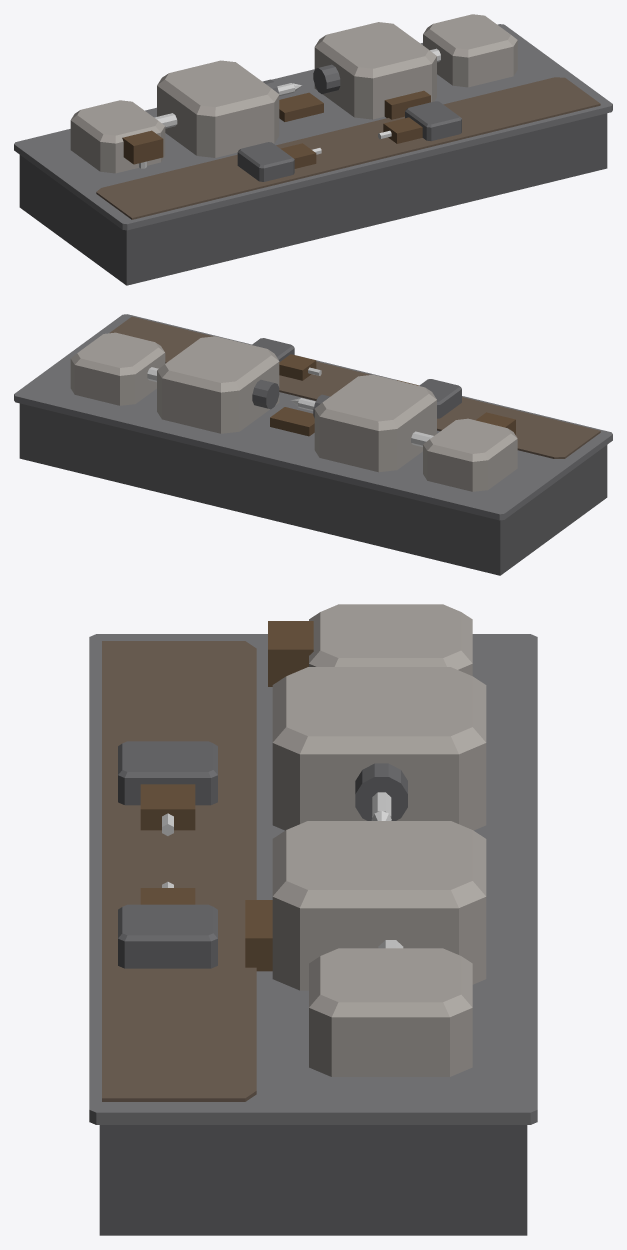
The model's file is fabrication_bench.obj.
3 renders of one model, top to bottom at view 1: azimuth 30°, elevation 25°; view 2: azimuth 150°, elevation 25°; view 3: azimuth 270°, elevation 25°, orthographic. The views are drawn at different scales.
Parts seen in each view (by area): view 1: fabrication_bench_0, fabrication_bench_1, fabrication_bench_2, fabrication_bench_3, fabrication_bench_10, fabrication_bench_12, fabrication_bench_5, fabrication_bench_7, fabrication_bench_14, fabrication_bench_20, fabrication_bench_19, fabrication_bench_22 (+3 smaller); view 2: fabrication_bench_0, fabrication_bench_1, fabrication_bench_3, fabrication_bench_10, fabrication_bench_2, fabrication_bench_5, fabrication_bench_12, fabrication_bench_19, fabrication_bench_7, fabrication_bench_15, fabrication_bench_11, fabrication_bench_14 (+1 smaller); view 3: fabrication_bench_1, fabrication_bench_2, fabrication_bench_0, fabrication_bench_3, fabrication_bench_10, fabrication_bench_12, fabrication_bench_5, fabrication_bench_14, fabrication_bench_7, fabrication_bench_20, fabrication_bench_8, fabrication_bench_4 (+2 smaller).
Boxes of the visible parts, bbox=[...] form: fabrication_bench_0: bbox=[19, 113, 607, 285]; fabrication_bench_1: bbox=[14, 24, 612, 230]; fabrication_bench_2: bbox=[96, 77, 600, 219]; fabrication_bench_3: bbox=[157, 60, 279, 157]; fabrication_bench_10: bbox=[314, 22, 436, 119]; fabrication_bench_12: bbox=[423, 14, 517, 87]; fabrication_bench_5: bbox=[70, 100, 165, 173]; fabrication_bench_7: bbox=[237, 142, 294, 181]; fabrication_bench_14: bbox=[405, 101, 461, 141]; fabrication_bench_20: bbox=[122, 130, 163, 164]; fabrication_bench_19: bbox=[279, 92, 323, 121]; fabrication_bench_22: bbox=[384, 90, 430, 119]; fabrication_bench_0: bbox=[19, 403, 607, 575]; fabrication_bench_1: bbox=[14, 314, 612, 520]; fabrication_bench_3: bbox=[314, 374, 436, 472]; fabrication_bench_10: bbox=[157, 336, 279, 433]; fabrication_bench_2: bbox=[109, 316, 600, 458]; fabrication_bench_5: bbox=[423, 418, 517, 491]; fabrication_bench_12: bbox=[70, 332, 165, 405]; fabrication_bench_19: bbox=[270, 407, 314, 436]; fabrication_bench_7: bbox=[419, 379, 461, 418]; fabrication_bench_15: bbox=[279, 354, 316, 380]; fabrication_bench_11: bbox=[252, 379, 279, 409]; fabrication_bench_14: bbox=[252, 338, 294, 361]; fabrication_bench_1: bbox=[89, 634, 537, 1124]; fabrication_bench_2: bbox=[102, 641, 256, 1101]; fabrication_bench_0: bbox=[99, 1125, 527, 1235]; fabrication_bench_3: bbox=[272, 667, 486, 830]; fabrication_bench_10: bbox=[272, 821, 486, 990]; fabrication_bench_12: bbox=[309, 948, 472, 1076]; fabrication_bench_5: bbox=[309, 604, 472, 675]; fabrication_bench_14: bbox=[118, 904, 217, 968]; fabrication_bench_7: bbox=[118, 741, 217, 805]; fabrication_bench_20: bbox=[268, 621, 313, 686]; fabrication_bench_8: bbox=[140, 784, 195, 830]; fabrication_bench_4: bbox=[355, 763, 407, 820].
Size of the model in its own units: 4.98 by 1.08 by 1.97.
